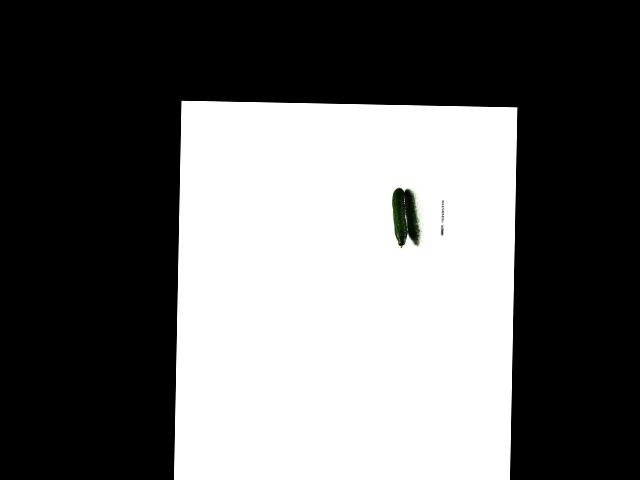cucumber: (391, 188, 408, 248)
